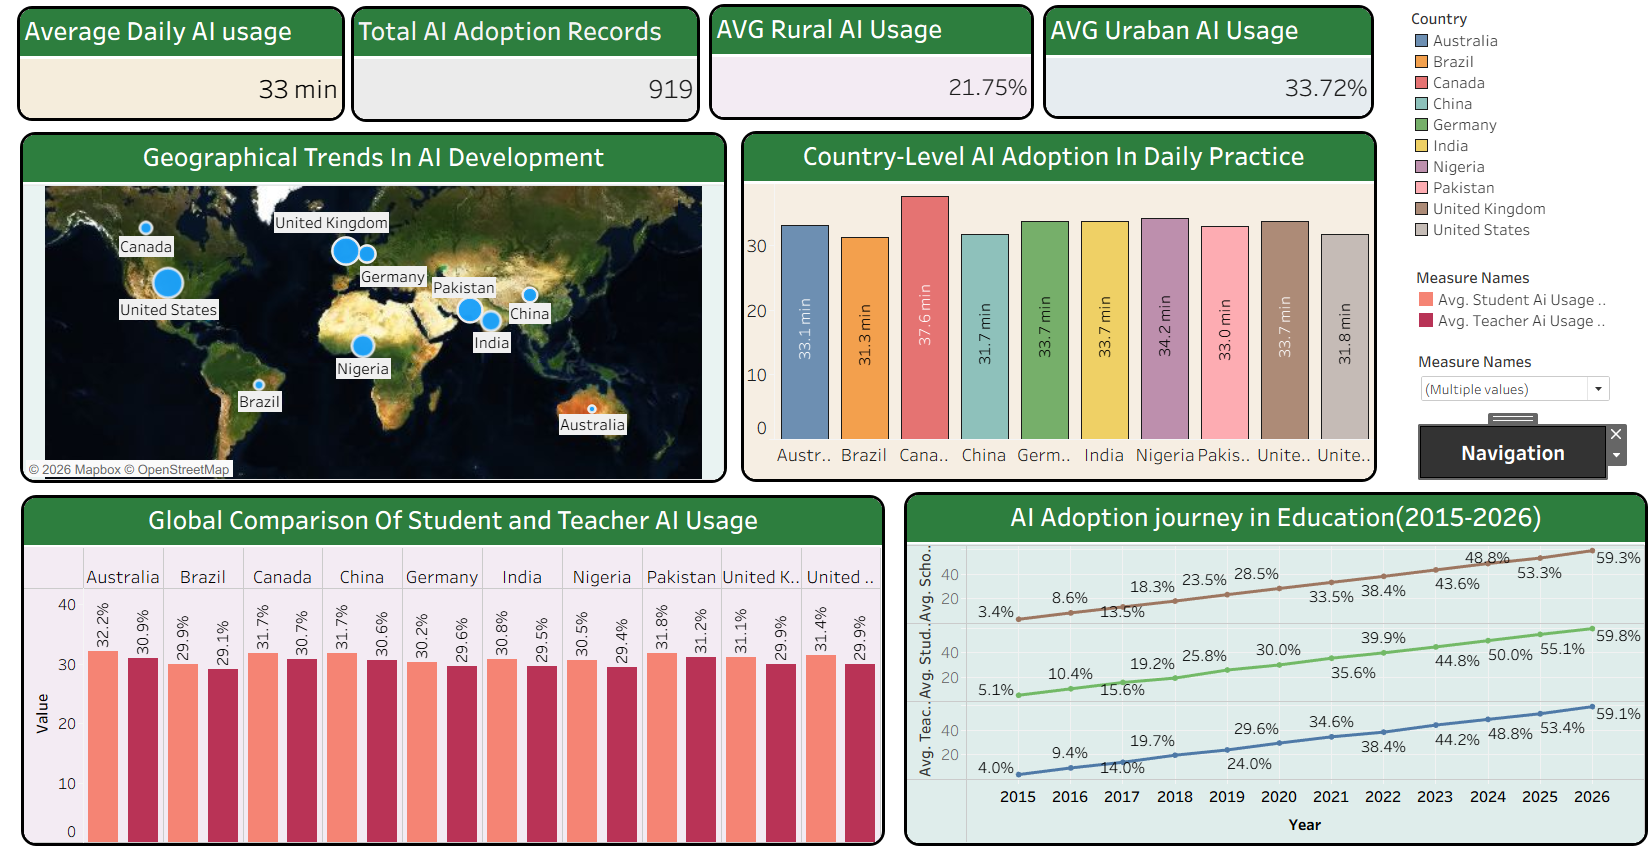

What the dashboard file says about the page in this screenshot:
{"tool":"tableau","page":{"name":"Dashboard 1","canvas":[1000,1000],"units":"permille","ordinal":0},"visuals":[{"type":"worksheet","title":"AVG Rural AI Usage","mark":"Automatic","box":[429.1,8.2,196.1,136.3]},{"type":"worksheet","title":"AVG Uraban AI Usage","mark":"Automatic","box":[630.7,9.4,199.8,134]},{"type":"worksheet","title":"AVG Daily AI Usage","mark":"Automatic","box":[11.5,10.6,197.7,135.1]},{"type":"worksheet","title":"Total AI Adoption Records","mark":"Automatic","box":[213,10.6,210.6,136.3]},{"type":"legend","title":"Country-Level AI Adoption In Daily Practice  ","param":"[federated.1y951fn04qznic1cq6ri30tqtnq7].[none:country:nk]","box":[852.8,12.9,137.6,272.6]},{"type":"worksheet","title":"Country-Level AI Adoption In Daily Practice  ","mark":"Automatic","rows":["avg_daily_ai_usage_min"],"cols":["country"],"box":[448.4,157.5,383.8,412.5]},{"type":"worksheet","title":"Geographical Trends In AI Development","mark":"Automatic","box":[13.3,158.6,426.7,412.5]},{"type":"legend","title":"Global Comparison Of Student and Teacher AI Usage","param":"[federated.1y951fn04qznic1cq6ri30tqtnq7].[:Measure Names]","box":[855.8,317.3,120.1,105.8]},{"type":"filter","title":"Global Comparison Of Student and Teacher AI Usage","param":"[federated.1y951fn04qznic1cq6ri30tqtnq7].[:Measure Names]","box":[857,416,117.7,85.8]},{"type":"dashboard-object","box":[858.2,504.1,112.2,61.1]},{"type":"worksheet","title":"AI Adoption journey in Education(2015-2026)","mark":"Automatic","rows":["schools_ai_adoption_pct","student_ai_usage_pct","teacher_ai_usage_pct"],"cols":["year"],"box":[546.8,581.7,449,416]},{"type":"worksheet","title":"Global Comparison Of Student and Teacher AI Usage","mark":"Automatic","cols":["country"],"box":[13.9,585.2,521.4,412.5]}]}

Visuals, with their boxes on the dashboard's canvas, which has no fixed pixel size, in thousandths of its width and height (x1, y1, x2, y2). These are canvas units, not pixel positions in the 1650x847 screenshot, which may show the page scaled, cropped or inside an application window:
"AVG Rural AI Usage" worksheet: bbox(429, 8, 625, 144)
"AVG Uraban AI Usage" worksheet: bbox(631, 9, 830, 143)
"AVG Daily AI Usage" worksheet: bbox(12, 11, 209, 146)
"Total AI Adoption Records" worksheet: bbox(213, 11, 424, 147)
"Country-Level AI Adoption In Daily Practice  " legend: bbox(853, 13, 990, 286)
"Country-Level AI Adoption In Daily Practice  " worksheet: bbox(448, 158, 832, 570)
"Geographical Trends In AI Development" worksheet: bbox(13, 159, 440, 571)
"Global Comparison Of Student and Teacher AI Usage" legend: bbox(856, 317, 976, 423)
"Global Comparison Of Student and Teacher AI Usage" filter: bbox(857, 416, 975, 502)
dashboard-object: bbox(858, 504, 970, 565)
"AI Adoption journey in Education(2015-2026)" worksheet: bbox(547, 582, 996, 998)
"Global Comparison Of Student and Teacher AI Usage" worksheet: bbox(14, 585, 535, 998)
